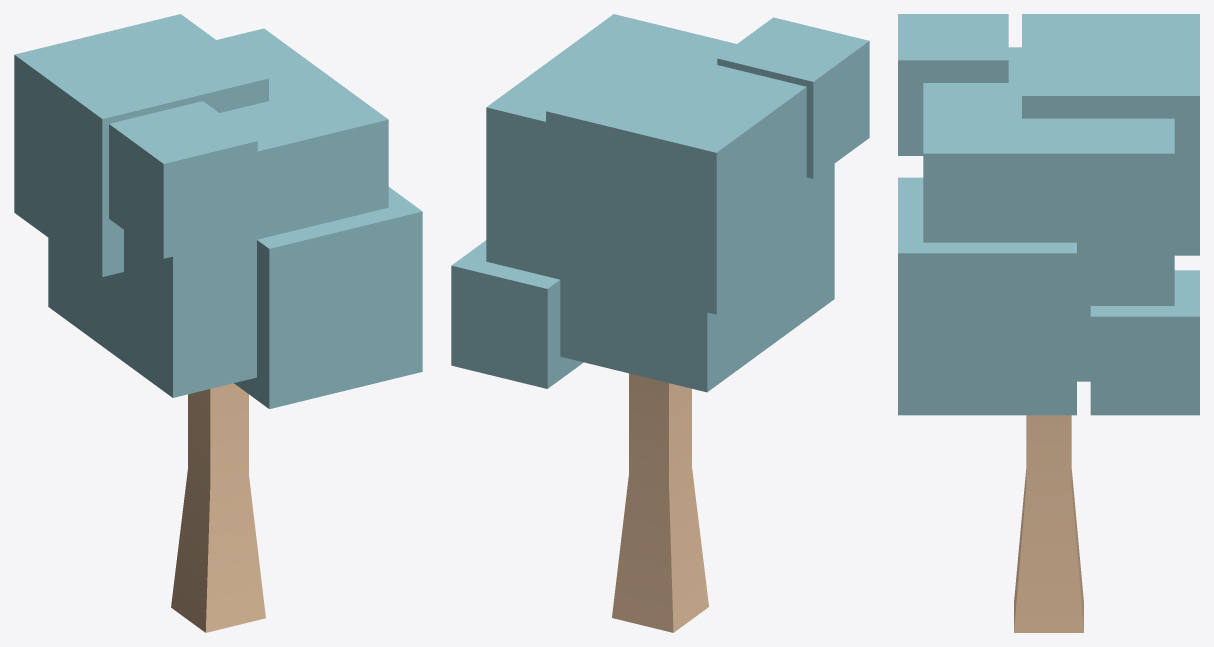
The model's file is tree_blocks_dark.glb.
3 renders of one model, left to right at view 1: azimuth 30°, elevation 25°; view 2: azimuth 150°, elevation 25°; view 3: azimuth 270°, elevation 25°, orthographic. The views are drawn at different scales.
Visible parts, largest first — view 1: tree_blocks_dark; view 2: tree_blocks_dark; view 3: tree_blocks_dark.
Boxes of the visible parts, x1,y1,x2,y2 form: tree_blocks_dark: (14, 14, 422, 632); tree_blocks_dark: (451, 14, 869, 632); tree_blocks_dark: (898, 14, 1199, 632).
Bounding box in the file's own units: 0.6 × 1.18 × 0.6.
